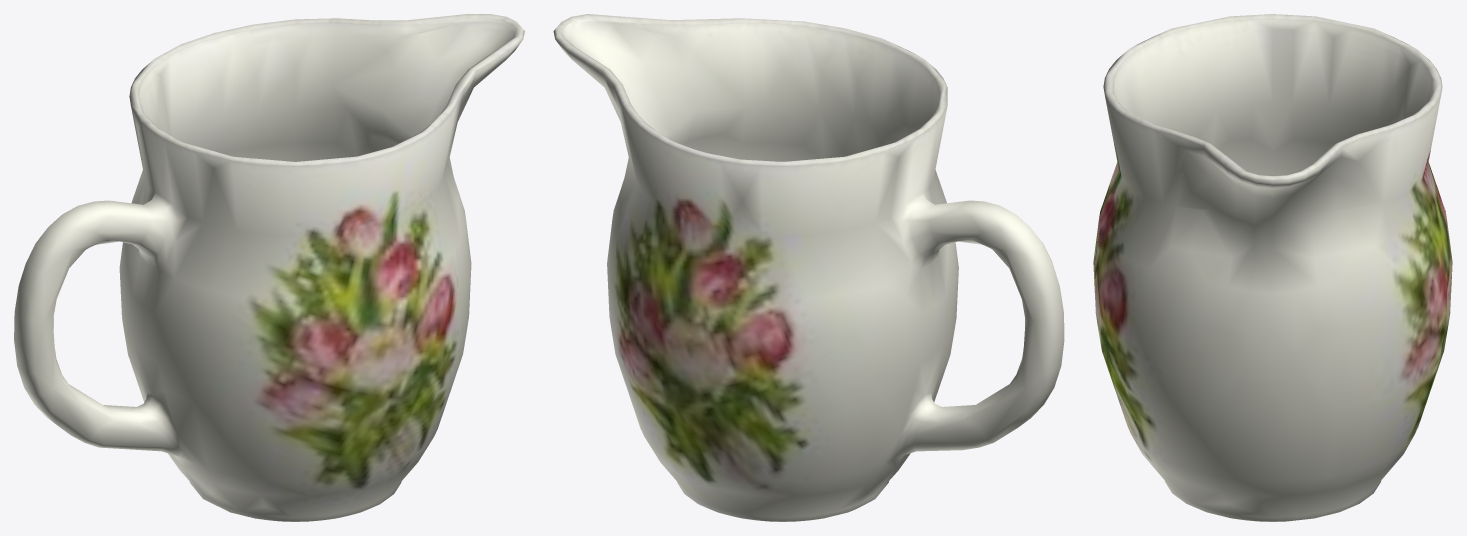
Rendered from jug_01.l.67238e26.glb.
3 views of the same model, side by side, from view 1: azimuth 30°, elevation 25°; view 2: azimuth 150°, elevation 25°; view 3: azimuth 270°, elevation 25° (orthographic). The views are drawn at different scales.
Parts seen in each view (by area): view 1: jug_01; view 2: jug_01; view 3: jug_01.
Part boxes in pixels (x1,y1,x2,y2): jug_01: (14, 14, 524, 521); jug_01: (553, 14, 1064, 521); jug_01: (1093, 14, 1452, 521).
Bounding box in the file's own units: 0.275 × 0.2113 × 0.1675.
Materials: 1 (1 with a texture image).
